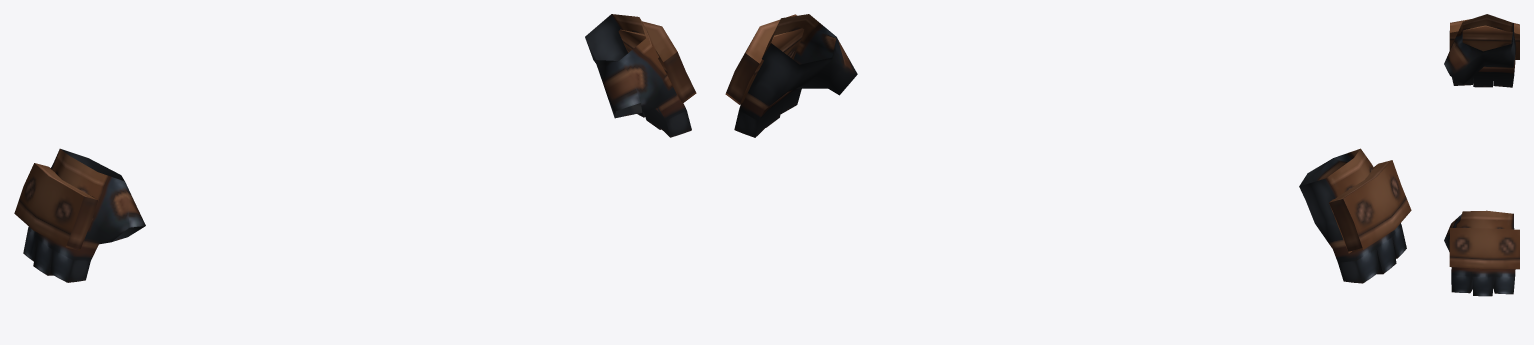
Rendered from hum_engineer_01_29664345.glb.
3 views of the same model, side by side, from view 1: azimuth 30°, elevation 25°; view 2: azimuth 150°, elevation 25°; view 3: azimuth 270°, elevation 25° (orthographic). The views are drawn at different scales.
Size of the model in its own units: 1.73 by 0.3987 by 0.2616.
Materials: 1 (1 with a texture image).
